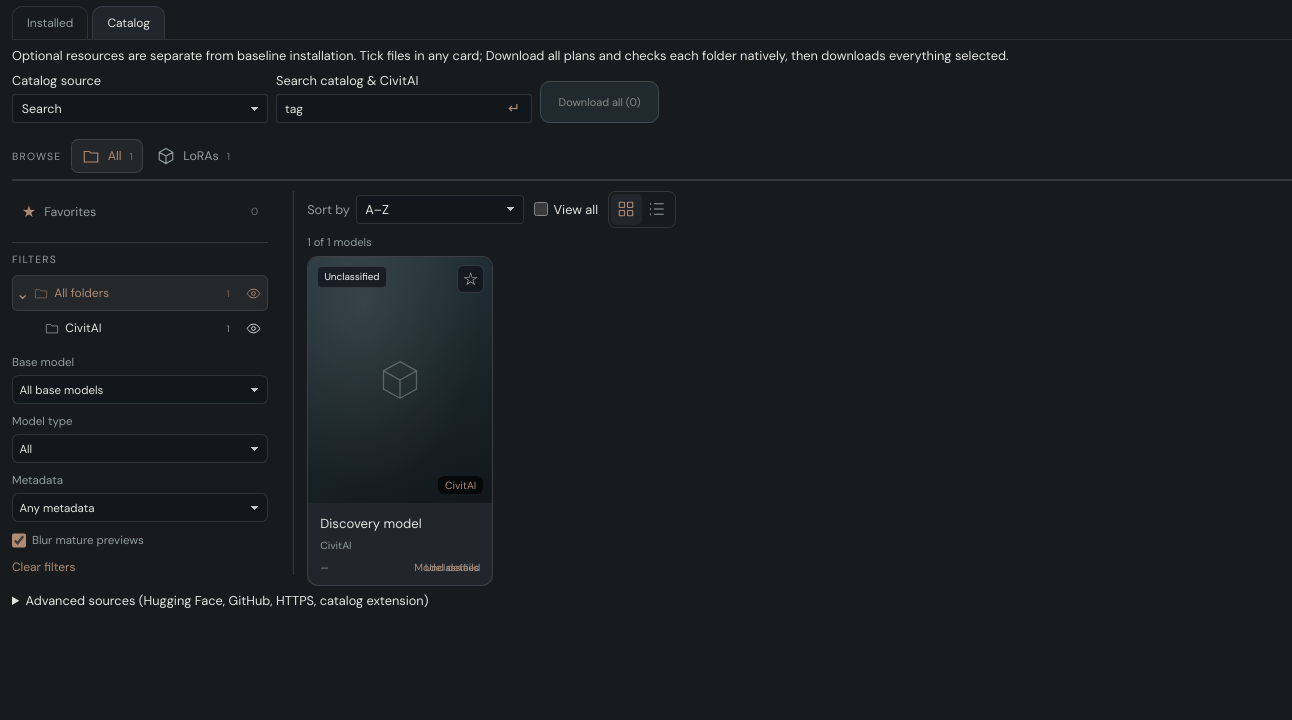
Test case: binds retained discovery cards and their download destination to the captured provider
This screenshot has width=1292, height=720.
Earlier steps of the test are not shown.
Later steps or results of the test are not shown.
What coordinates should you click on to do the following:
click the button "Discovery model"
I would click on:
 (400, 421)
Its box is [308,257,492,585].
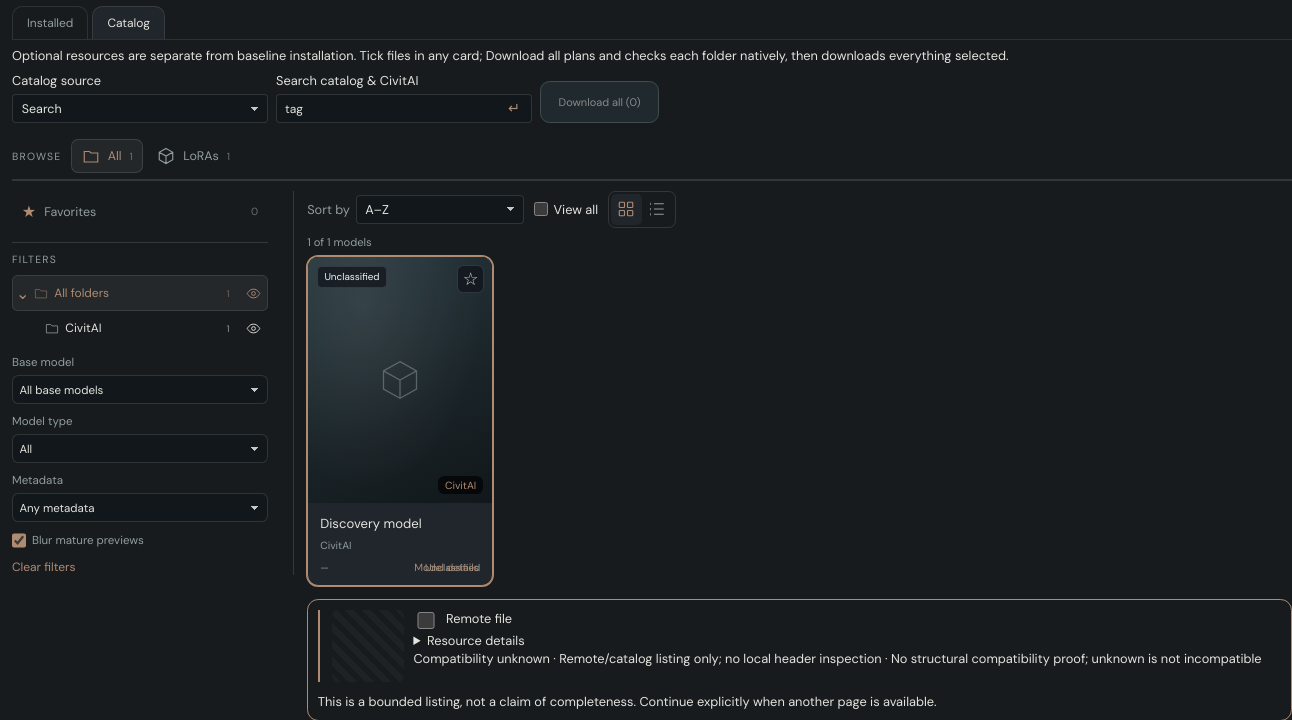
Expected: the checkbox labelled "Remote file" is shown, [417,612,435,629]
